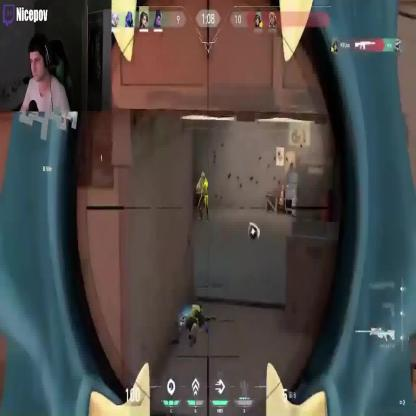enemy: (196, 172, 209, 221)
enemy_head: (200, 171, 206, 179)
